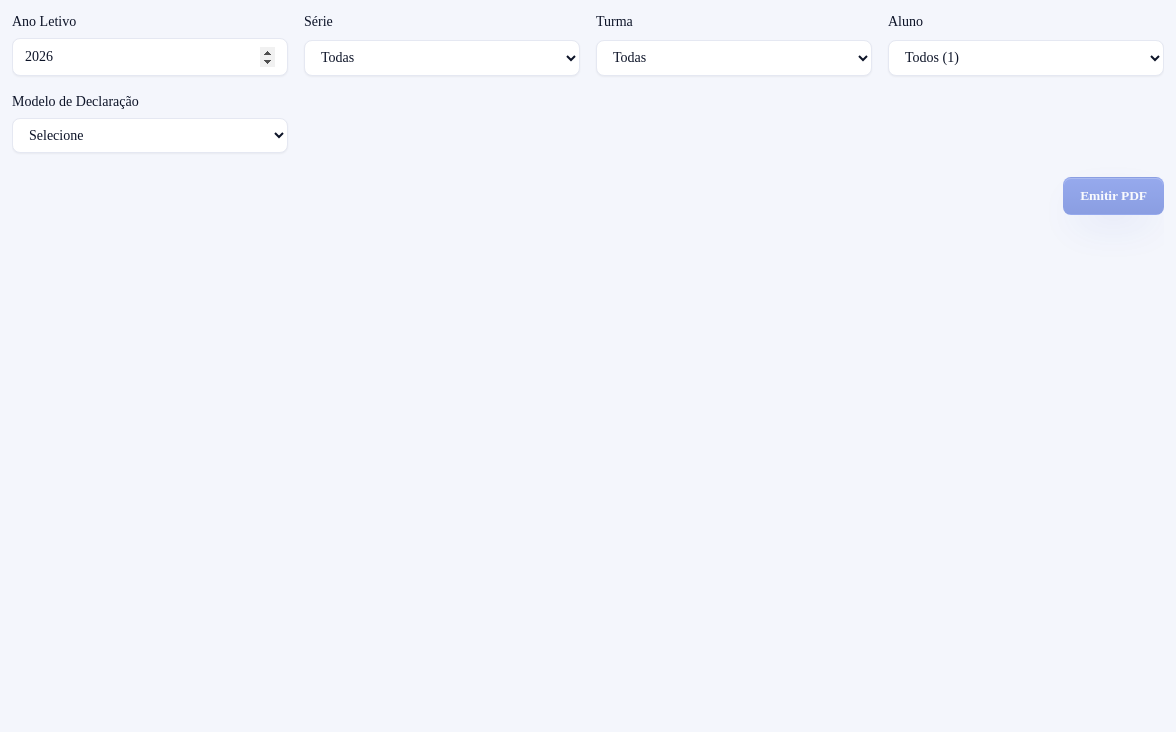
it: DeclaracaoEmissaoForm › ao escolher um modelo, busca a pré-visualização para o primeiro aluno do filtro e preenche os campos editáveis
Select "Declaração de Frequência" in the dropdown labelled "Modelo de Declaração" at x=150, y=136, box [12,118,288,153]
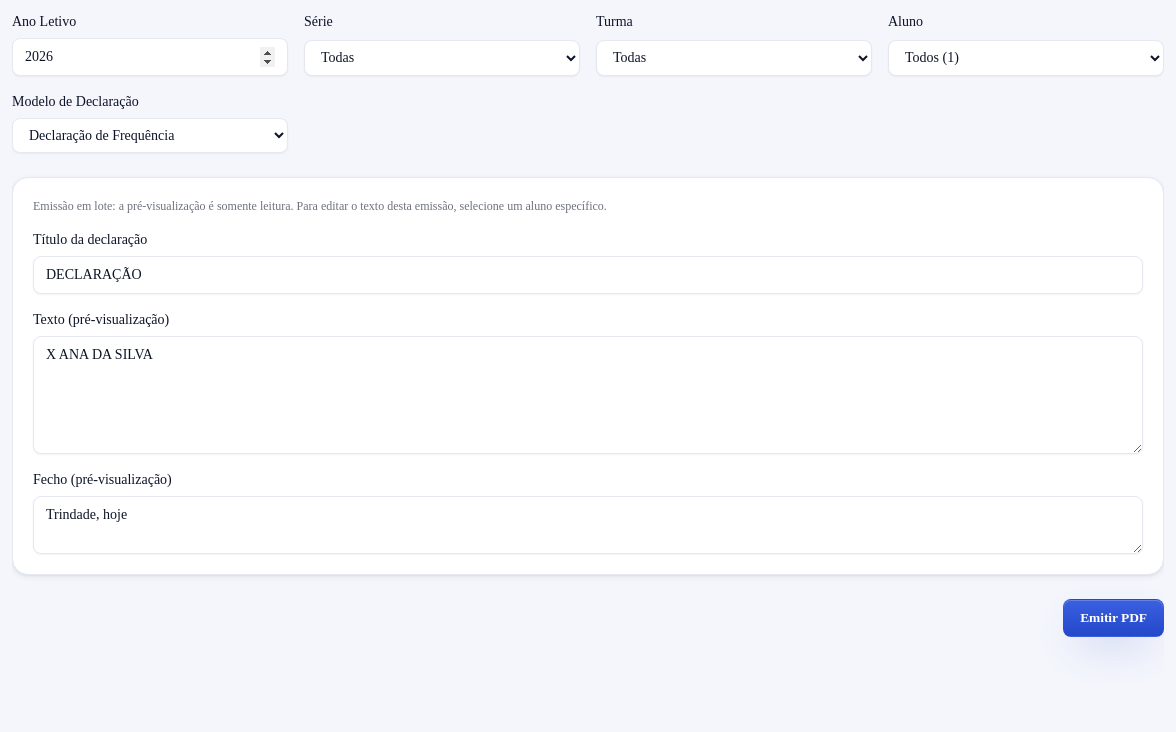
Check: the text box showing "X ANA DA SILVA" is shown, box [33,336,1143,454]
